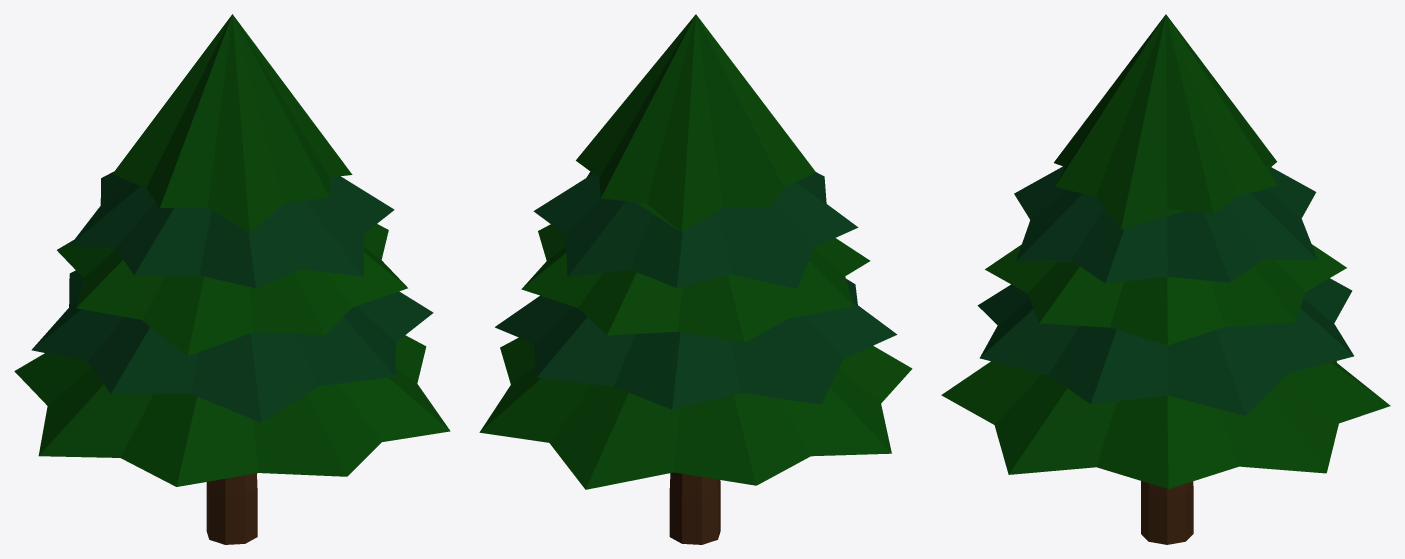
The model's file is Pine-Small-1.fbx.
3 renders of one model, left to right at view 1: azimuth 30°, elevation 25°; view 2: azimuth 150°, elevation 25°; view 3: azimuth 270°, elevation 25°, orthographic.
Parts seen in each view (by area): view 1: Cylinder.031; view 2: Cylinder.031; view 3: Cylinder.031.
Boxes of the visible parts, x1,y1,x2,y2 form: Cylinder.031: (14,14,450,544); Cylinder.031: (479,14,912,544); Cylinder.031: (941,14,1390,544).
Bounding box in the file's own units: 254 × 324 × 254.
